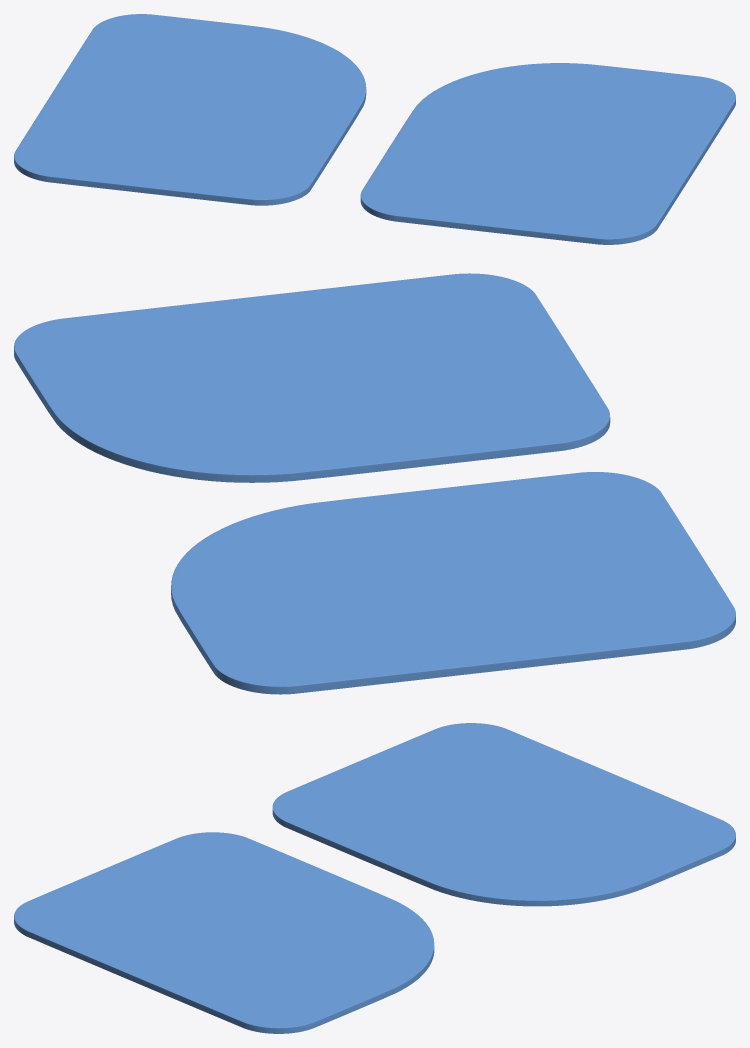
Rendered from smooth_Ground.fbx.
3 renders of one model, top to bottom at view 1: azimuth 30°, elevation 25°; view 2: azimuth 150°, elevation 25°; view 3: azimuth 270°, elevation 25°, orthographic. The views are drawn at different scales.
Parts seen in each view (by area): view 1: NoghtClub_In_EX18:M_Ground_A_geo; view 2: NoghtClub_In_EX18:M_Ground_A_geo; view 3: NoghtClub_In_EX18:M_Ground_A_geo.
Part boxes in pixels (x1,y1,x2,y2): NoghtClub_In_EX18:M_Ground_A_geo: (14, 14, 735, 244); NoghtClub_In_EX18:M_Ground_A_geo: (14, 273, 735, 694); NoghtClub_In_EX18:M_Ground_A_geo: (14, 723, 735, 1033).
Size of the model in its own units: 11905 by 108 by 11905.
